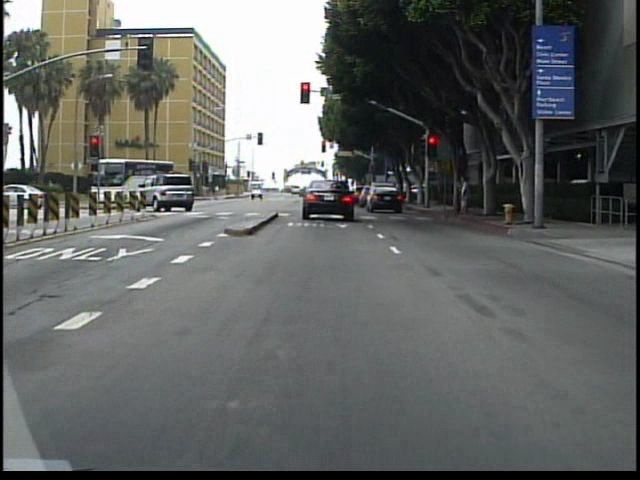person: (457, 169, 476, 217)
